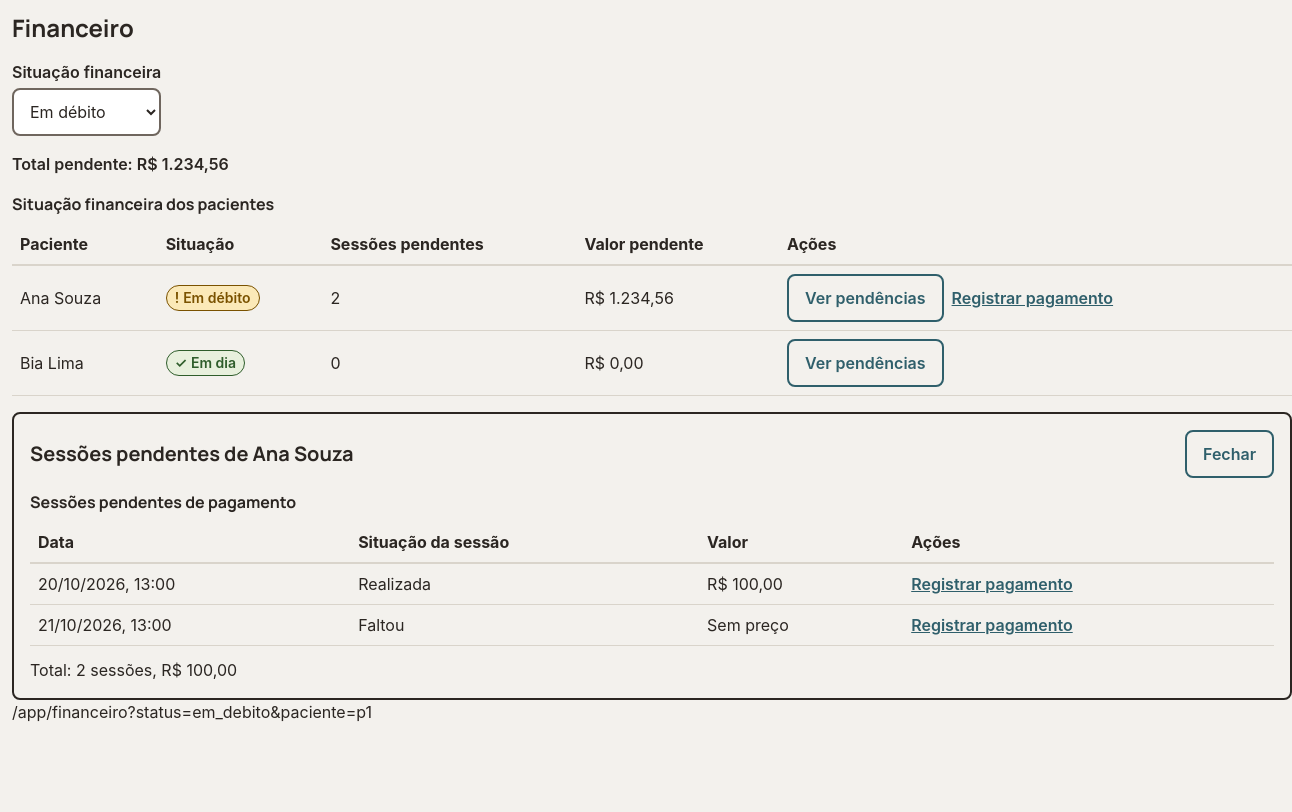
Scenario: Financeiro: sessões pendentes do paciente (FIN-07) › abre o detalhe direto pela URL e "Fechar" tira o paciente da URL
The width and height of the screenshot is (1292, 812).
Click the button "Fechar".
click(1230, 454)  # box [1185, 430, 1274, 478]
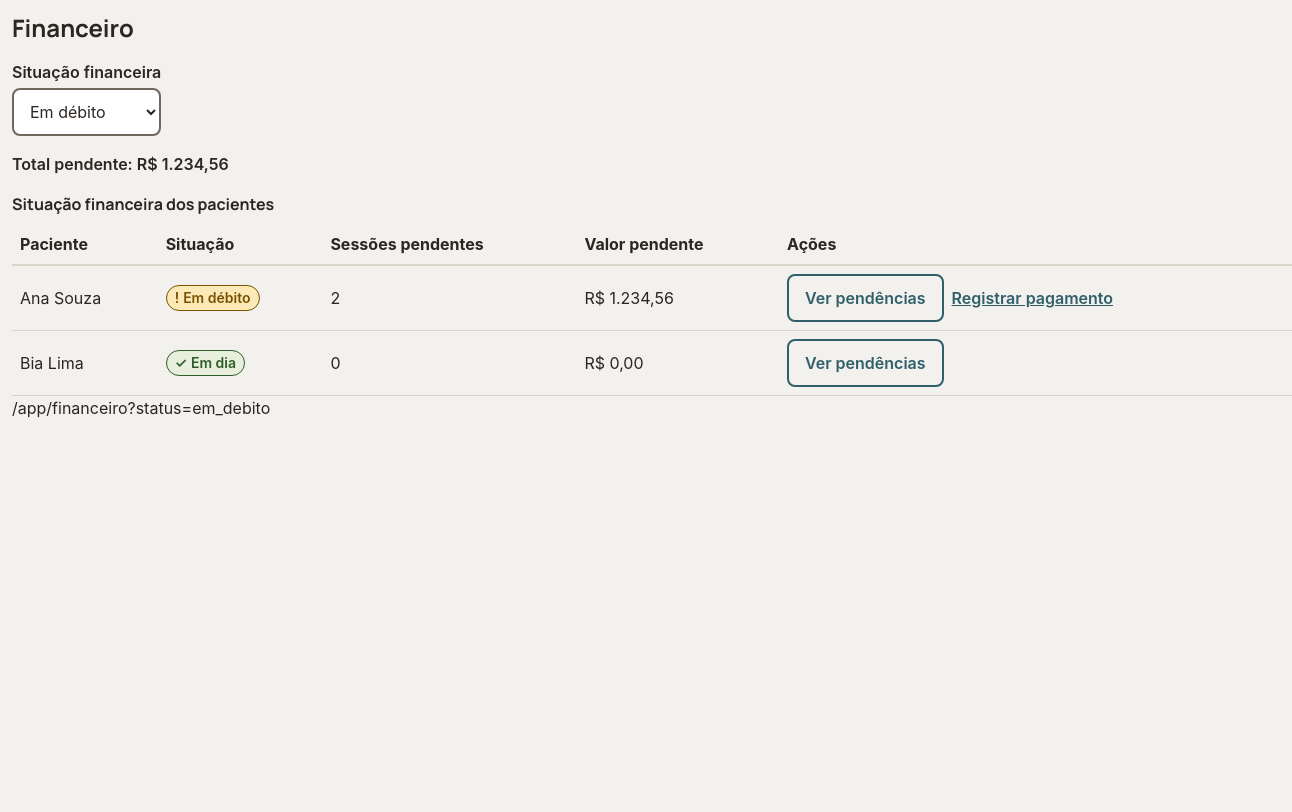
Expected: the text with test id "loc" reads "/app/financeiro?status=em_debito", [12, 398, 270, 418]
